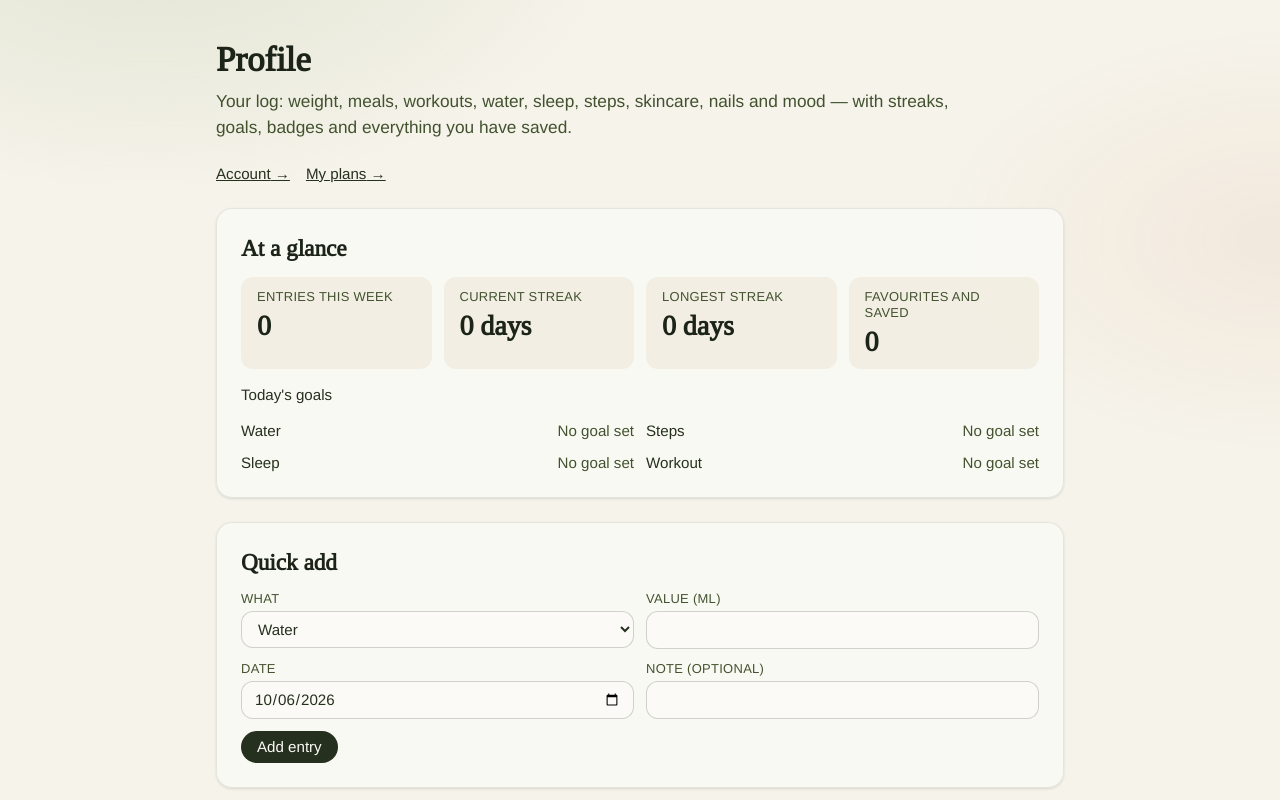
Test: <ProfilePage> — quick add › switching the kind swaps the unit; skincare has no value field; mood is a score
Select "Weight" in the dropdown labelled "What" at (438, 630), box 241,611 -> 634,648
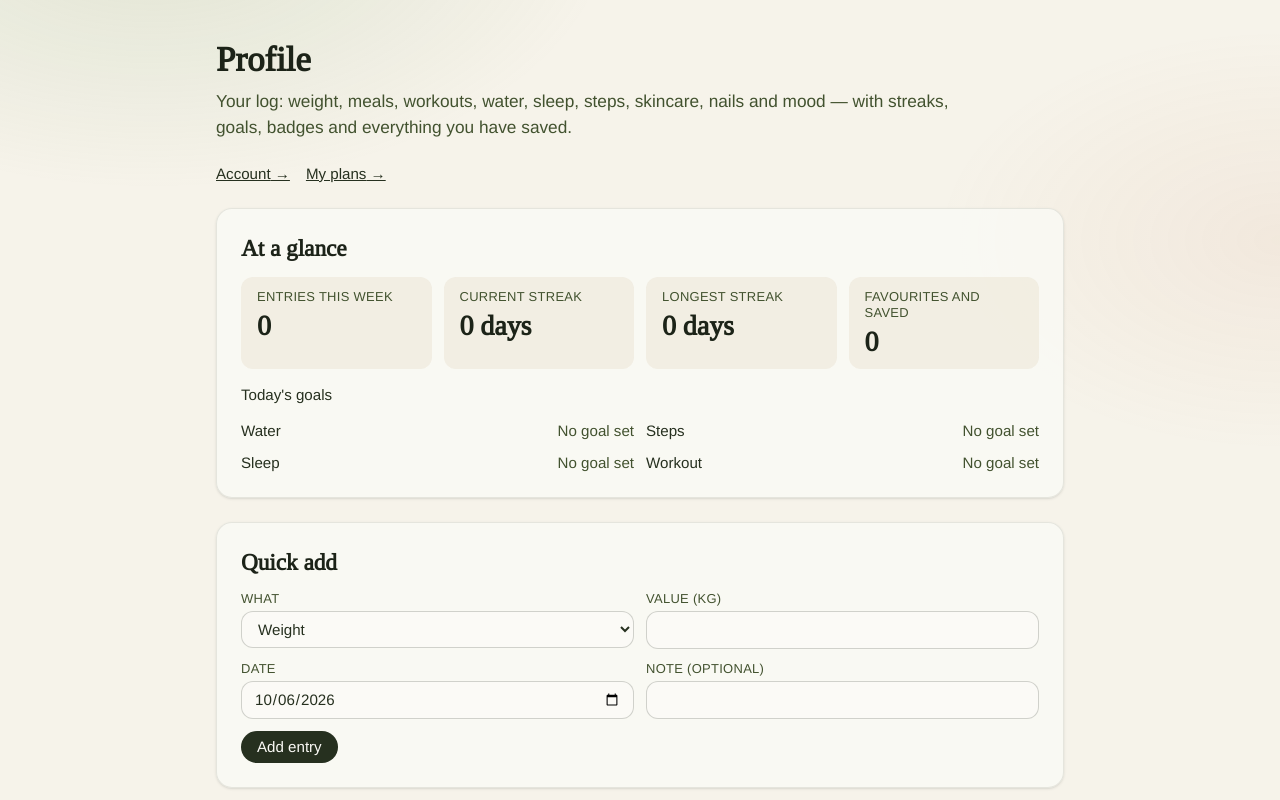
Expected: the field labelled "Value (kg)" is shown, 646,611 -> 1039,649
Select "Mood" in the dropdown labelled "What" at (438, 630), box 241,611 -> 634,648
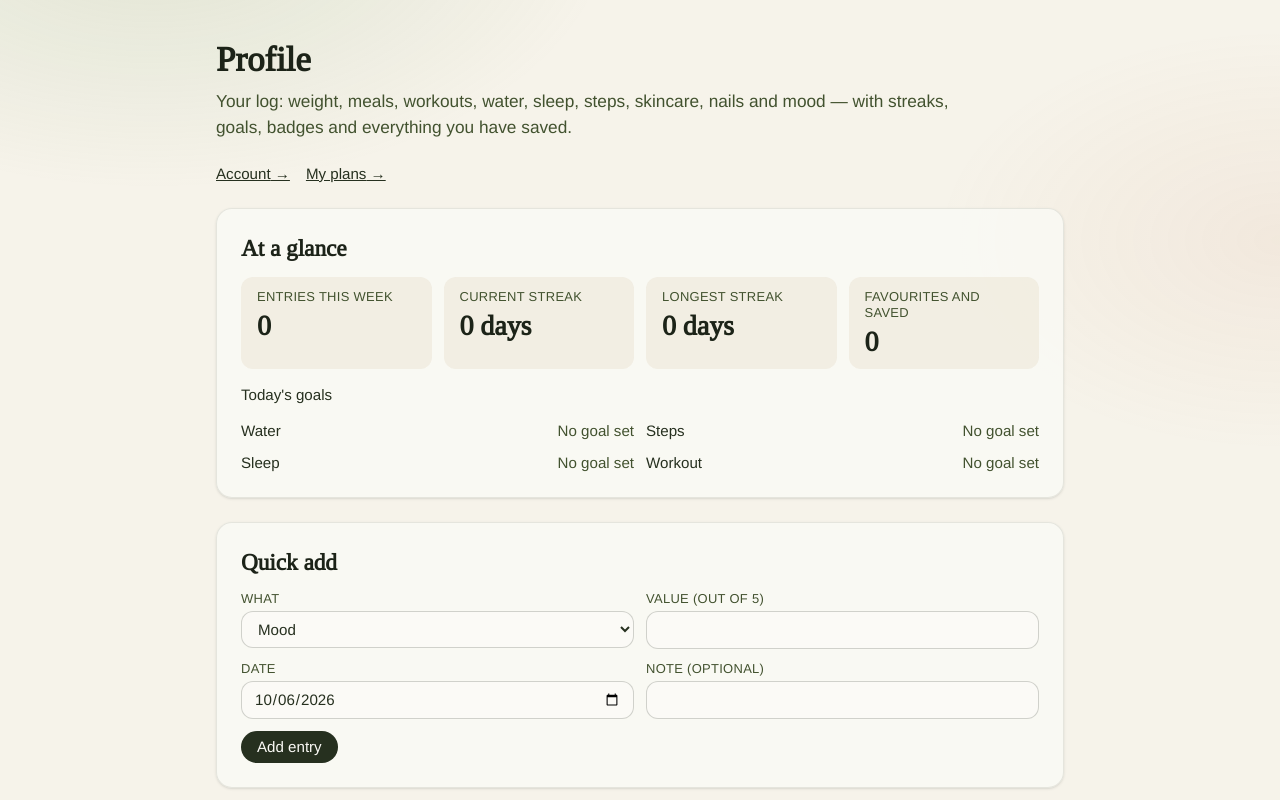
Expected: the field labelled "Value (out of 5)" is shown, 646,611 -> 1039,649
Select "Skincare" in the dropdown labelled "What" at (438, 630), box 241,611 -> 634,648
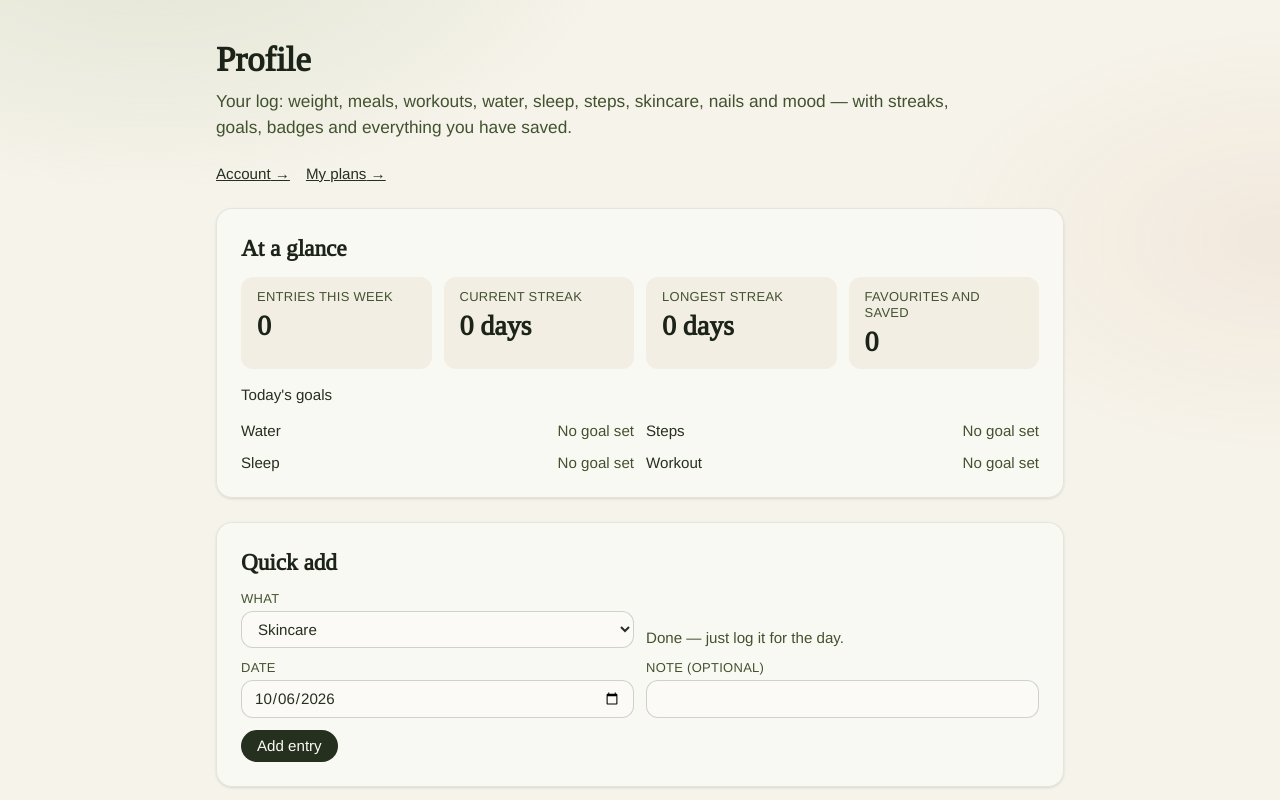
Expected: the label labelled "Value" is gone
Expected: the text "Done — just log it for the day." is shown, 646,629 -> 844,646
